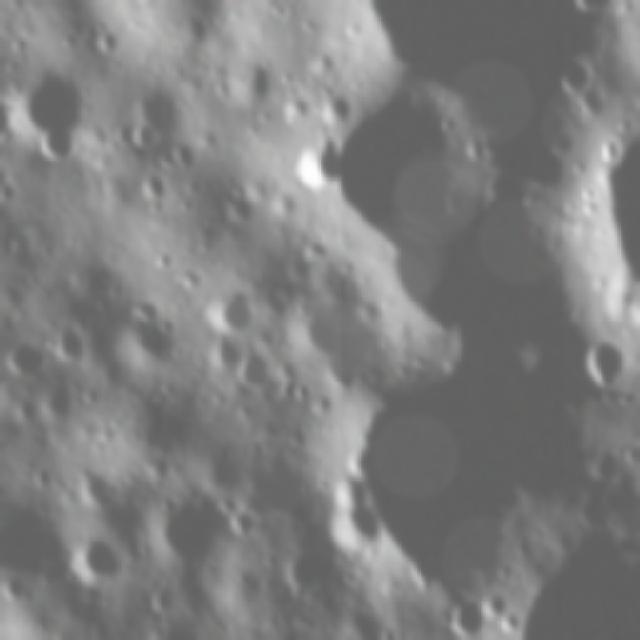crater: (302, 274, 396, 389), (152, 487, 226, 571), (19, 72, 90, 139), (66, 530, 136, 596), (577, 331, 638, 397), (548, 45, 601, 103), (287, 141, 345, 187), (441, 593, 497, 636), (205, 284, 249, 334), (46, 320, 91, 366), (226, 351, 272, 392), (42, 382, 86, 424), (80, 463, 117, 512), (8, 341, 47, 381), (126, 117, 162, 154)
